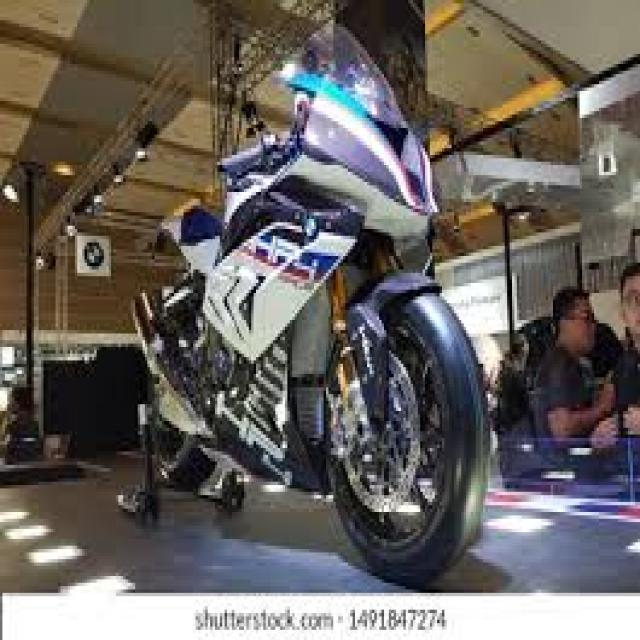Bike: (129, 20, 493, 592)
